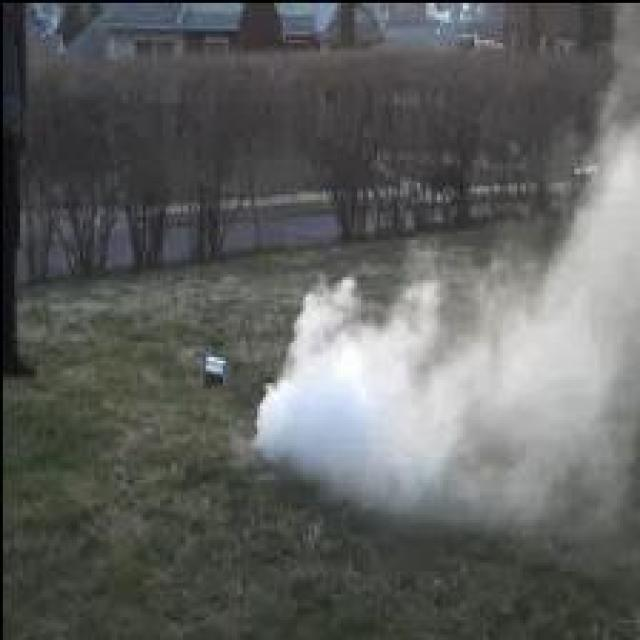Smoke: (257, 8, 640, 534)
